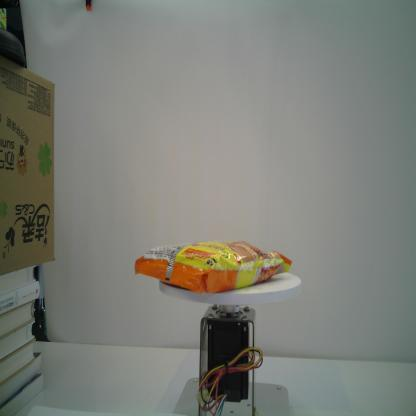Instant Noodles: (134, 238, 293, 295)
